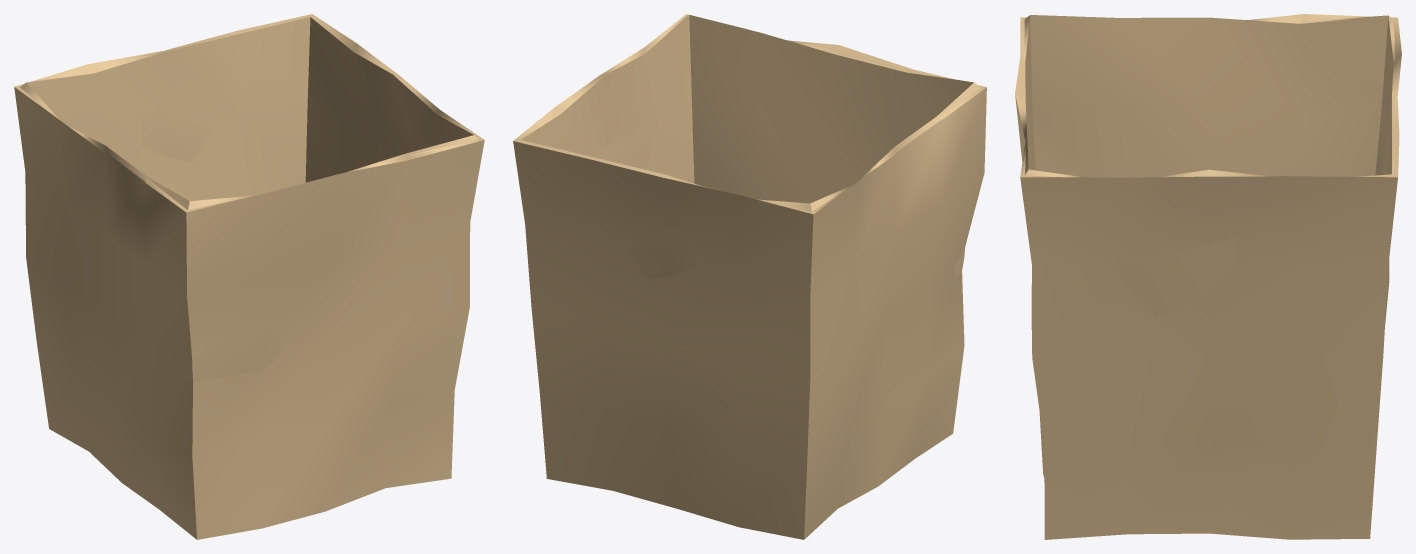
Rendered from carton2.glb.
The picture shows the model from 3 angles, left to right: view 1: azimuth 30°, elevation 25°; view 2: azimuth 150°, elevation 25°; view 3: azimuth 270°, elevation 25°; orthographic projection. The views are drawn at different scales.
Visible parts, largest first — view 1: Cube_005_garbage_0; view 2: Cube_005_garbage_0; view 3: Cube_005_garbage_0.
Boxes of the visible parts, <box> form: Cube_005_garbage_0: <box>14,14,484,539</box>; Cube_005_garbage_0: <box>513,14,986,539</box>; Cube_005_garbage_0: <box>1015,14,1401,539</box>.
Size of the model in its own units: 4.13 by 4.59 by 4.18.
